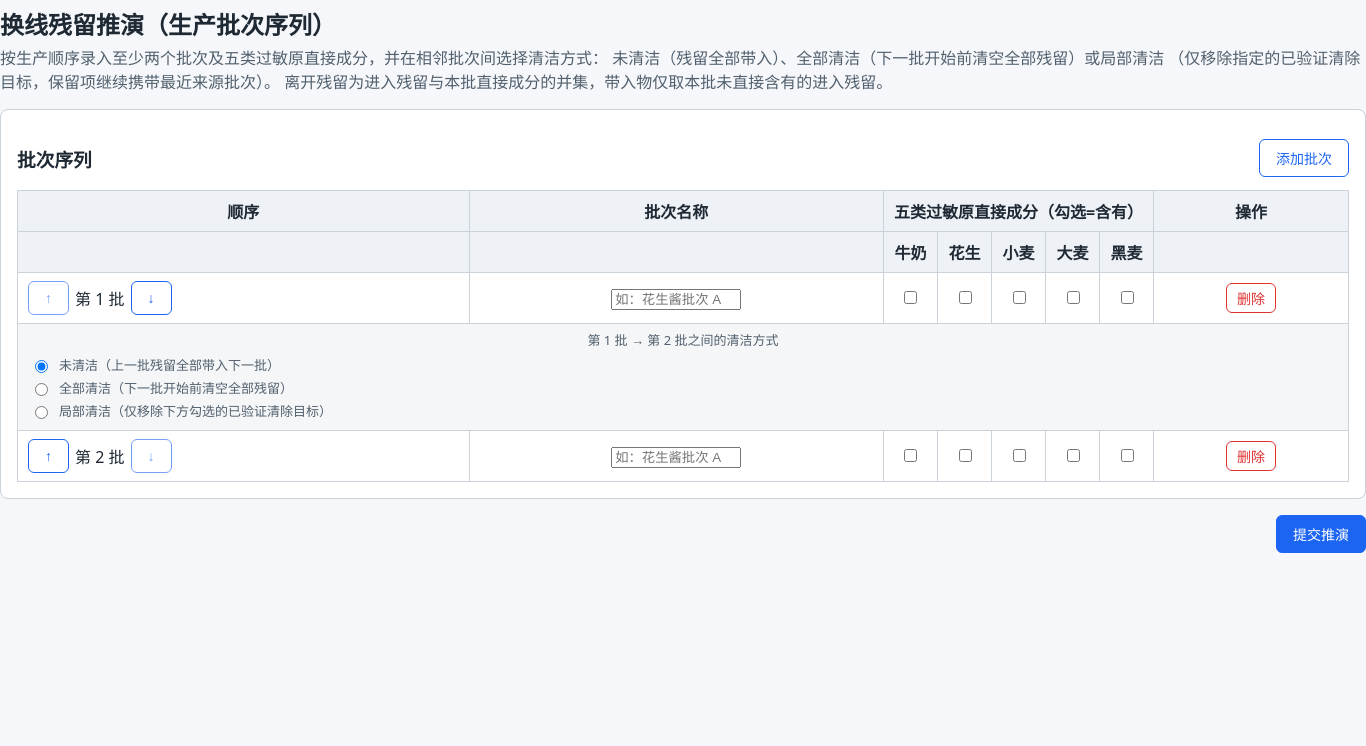
Test case: 换线残留推演：提交与逐批结果 › 连续带入：花生经未清洁边界连续带入两批，来源解释来自真实响应
Type "花生酱A" into the field with test id "co-batch-0-name" at point(676, 299), box [611,289,741,310]
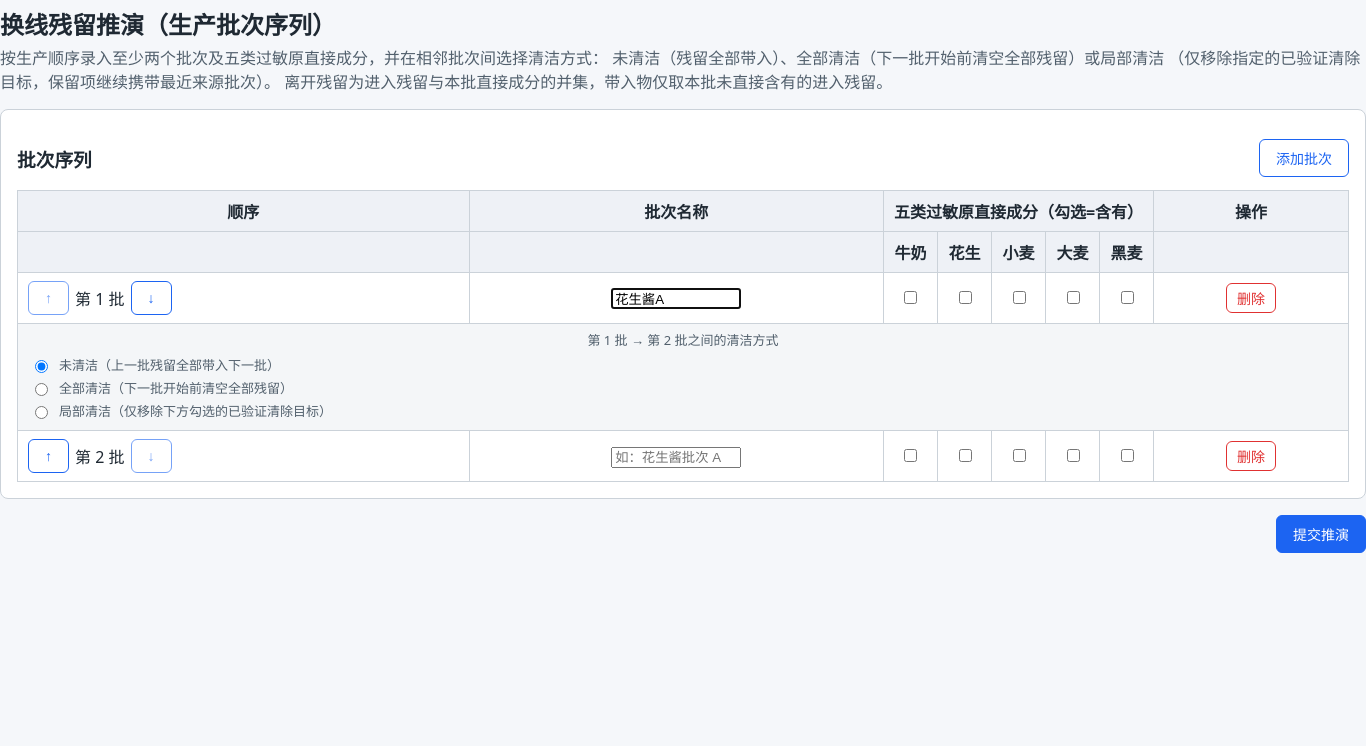
Click the checkbox with test id "co-batch-0-contains-peanut" at point(965, 298), box [958,291,972,304]
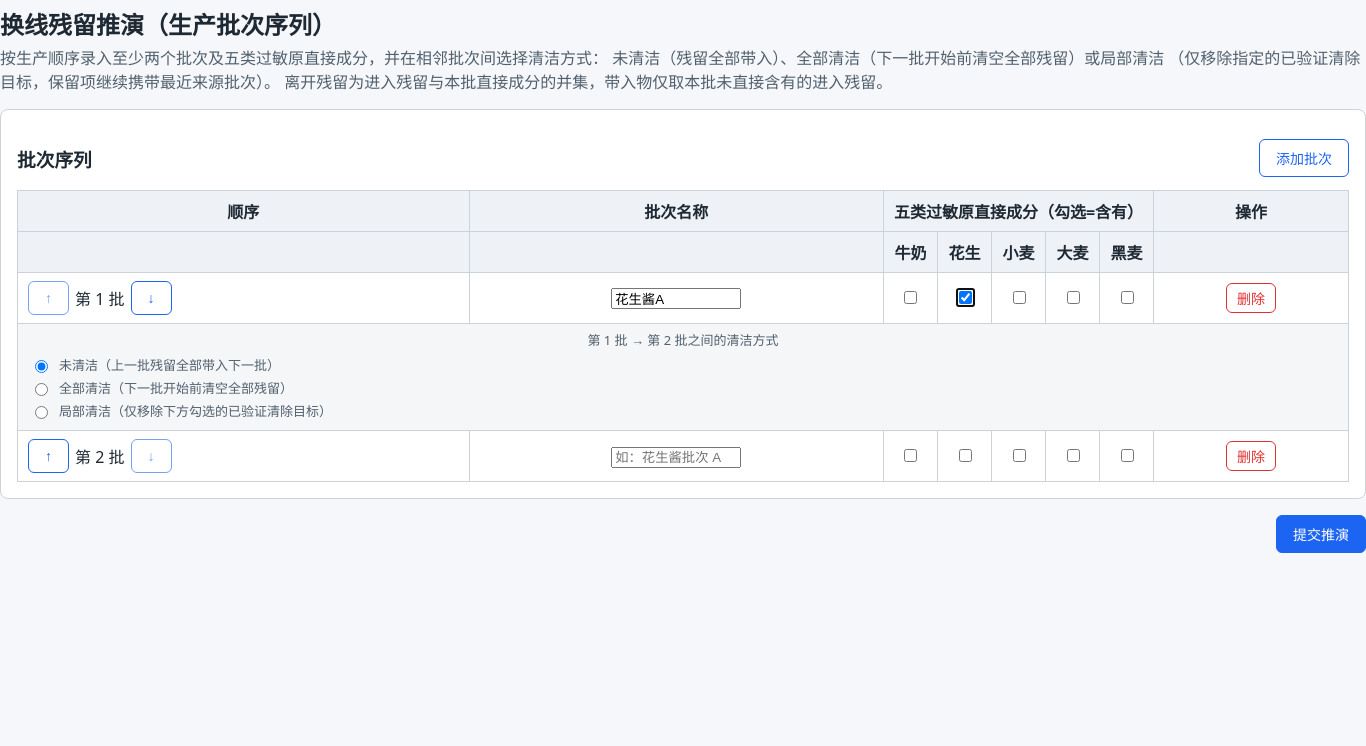
Type "燕麦B" into the field with test id "co-batch-1-name" at point(676, 457), box [611,447,741,468]
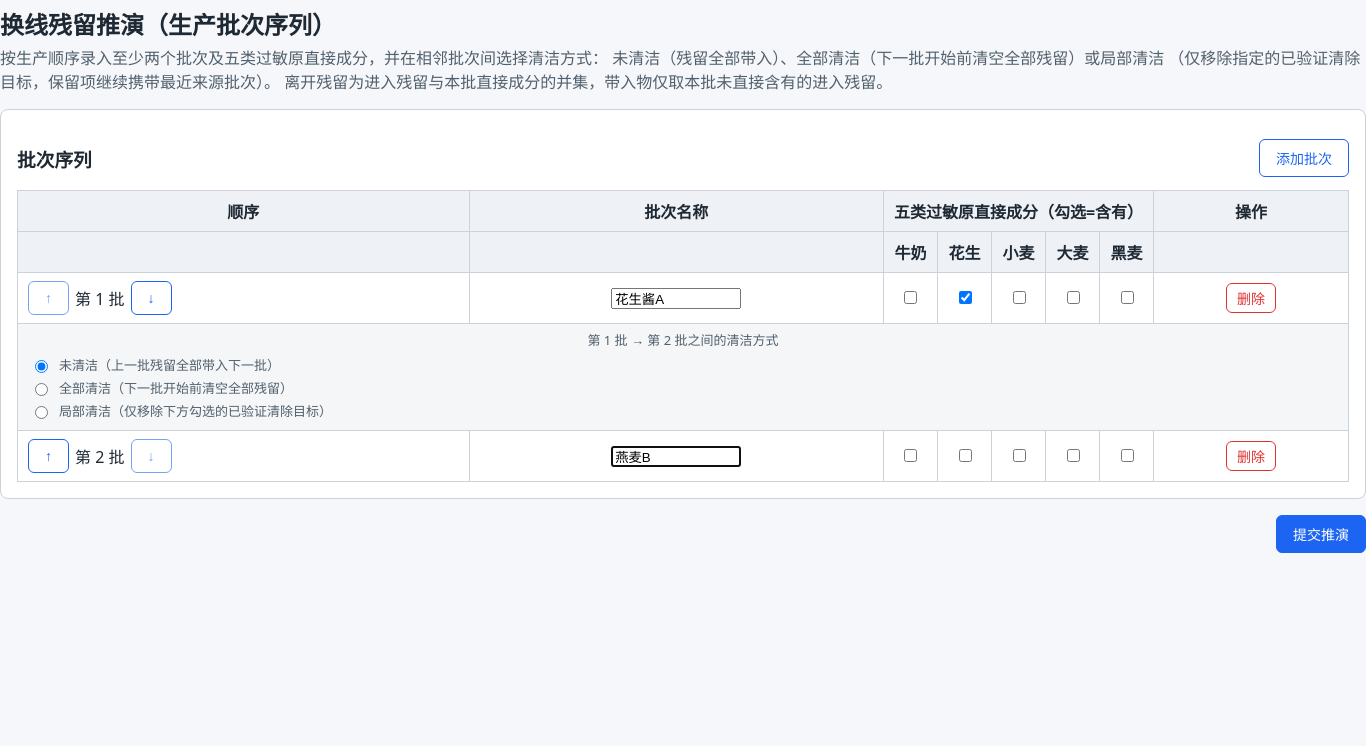
Click the button with test id "co-submit" at point(1321, 534), box [1276,515,1365,553]
(page scrolled)
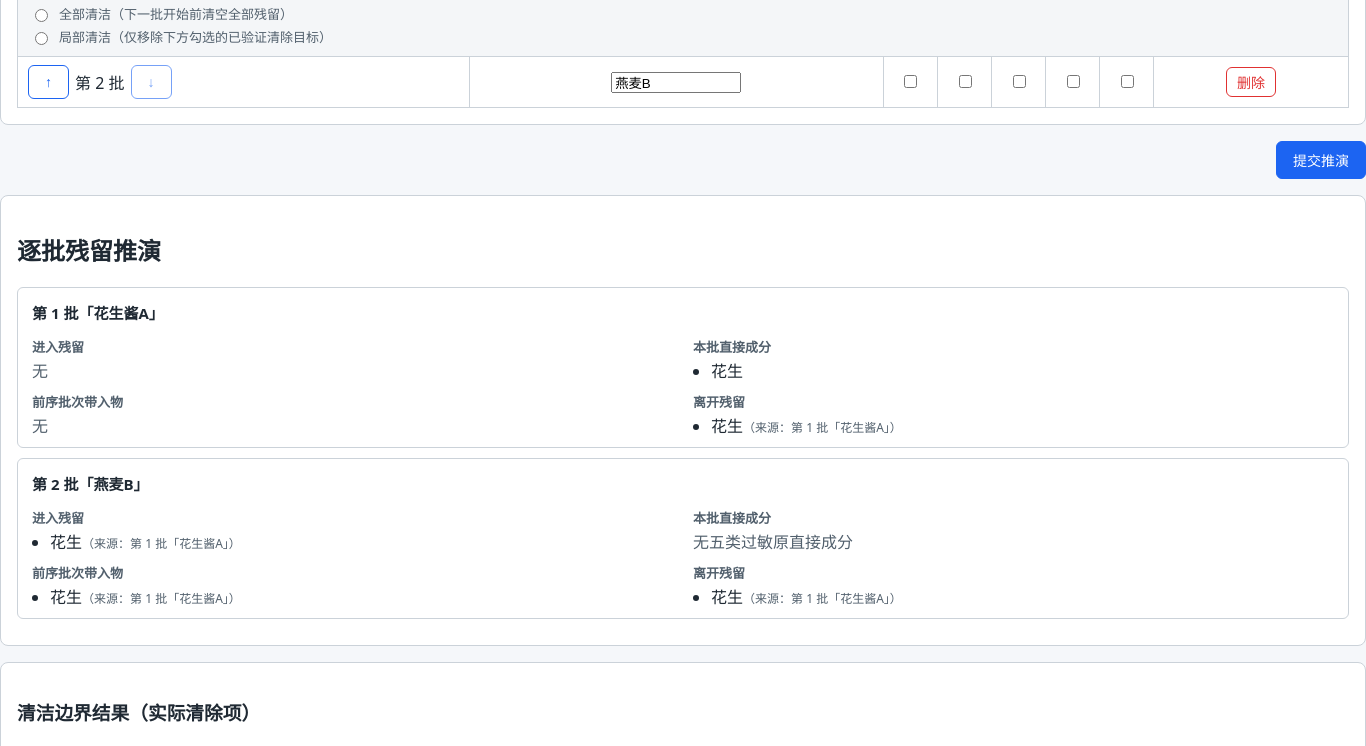
Expected: the element with test id "co-result" is shown
Expected: the list item with test id "co-batch-1-incoming-peanut" reads "花生（来源：第 1 批「花生酱A」）", [50,531,241,553]
Expected: the list item with test id "co-batch-1-carried-peanut" shows "花生酱A", [179,590,223,607]
